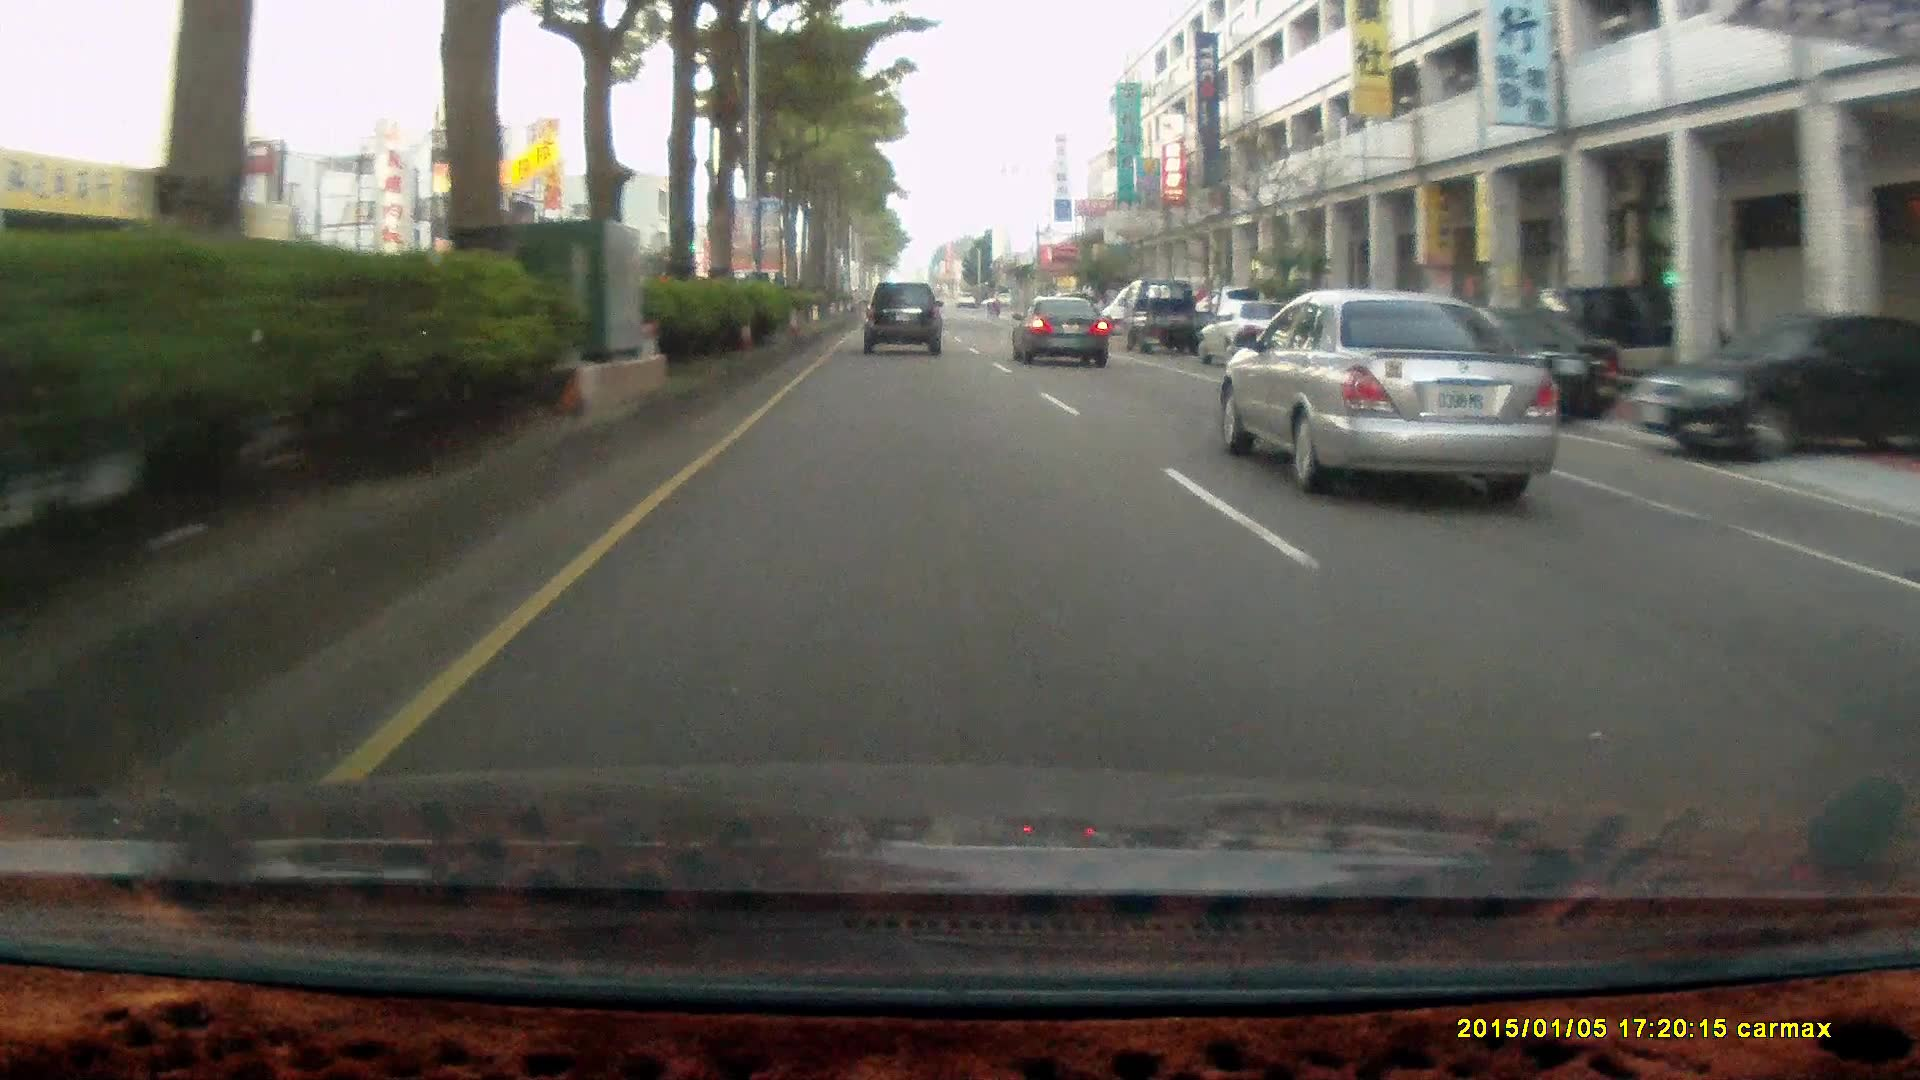vehicle: (1218, 286, 1559, 492), (1629, 314, 1920, 462), (1644, 314, 1917, 471), (1385, 302, 1625, 426), (1193, 298, 1312, 372), (1203, 299, 1319, 373), (1122, 280, 1222, 361), (1018, 297, 1117, 369), (1121, 276, 1212, 353), (1010, 294, 1109, 364), (862, 284, 945, 359), (860, 280, 943, 351)
